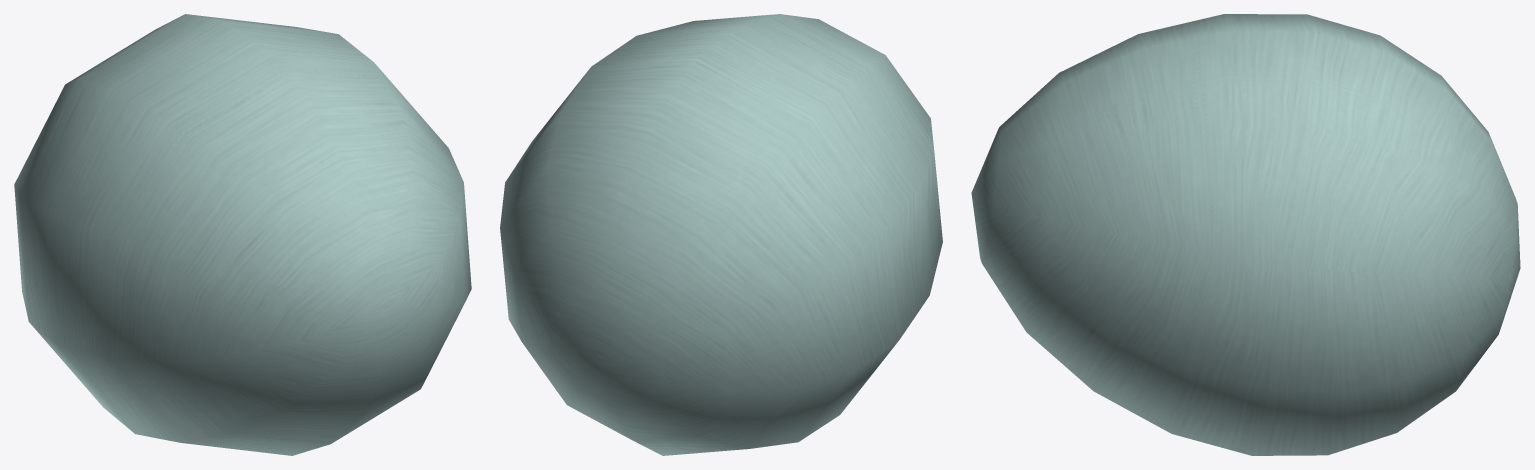
File: ref_saltedegg.fbx
3 renders of one model, left to right at view 1: azimuth 30°, elevation 25°; view 2: azimuth 150°, elevation 25°; view 3: azimuth 270°, elevation 25°, orthographic. The views are drawn at different scales.
Parts seen in each view (by area): view 1: ref_saltedegg; view 2: ref_saltedegg; view 3: ref_saltedegg.
Part boxes in pixels (x1,y1,x2,y2): ref_saltedegg: (14, 14, 471, 455); ref_saltedegg: (500, 14, 942, 455); ref_saltedegg: (971, 14, 1520, 455).
Bounding box in the file's own units: 78.65 × 81.91 × 100.
Materials: 1 (1 with a texture image).
